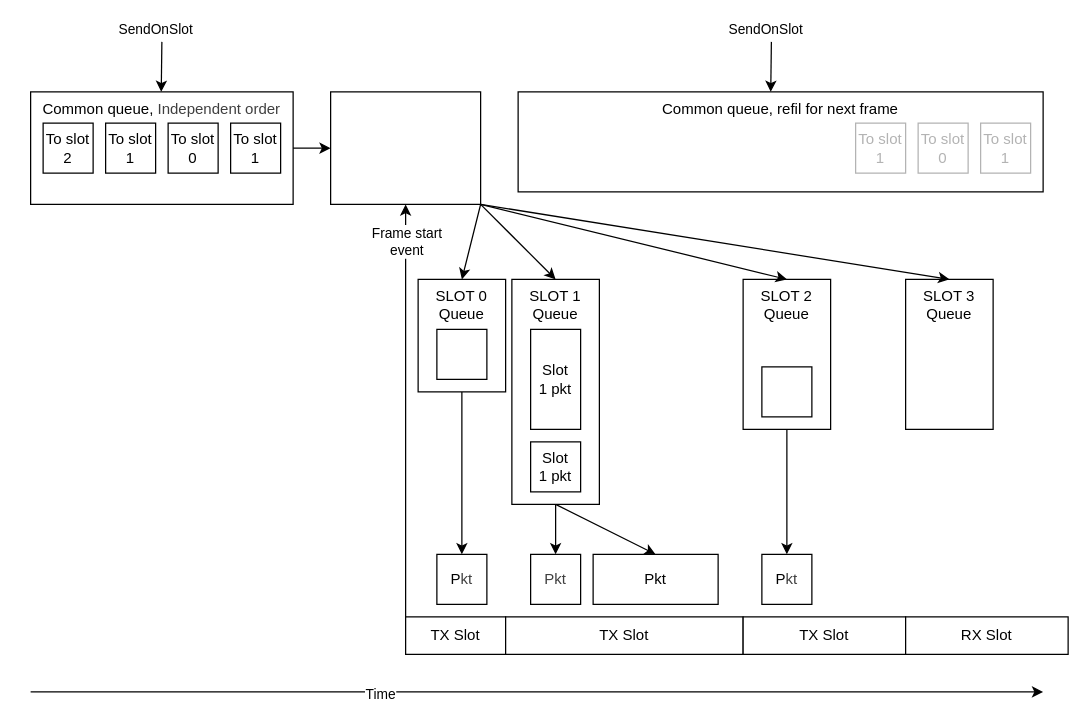
Image size: 1090x724. Some labels were removed from this diagram. Each missing label, with the centre of its shape:
Move from common queue to slot queue on frame start. Move as many pkts as fits: the point at 405,147
Slot 0 pkt: the point at 461,353
Slot 2 pkt: the point at 786,391
